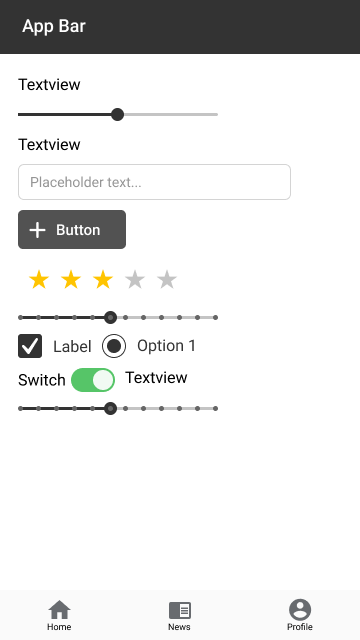buttonImage: (16, 208, 127, 250)
checkBox: (15, 332, 93, 361)
editText: (16, 162, 293, 202)
navigationButton: (1, 592, 359, 638)
radioButton: (99, 333, 201, 358)
ratingBar: (26, 269, 178, 292)
slider: (12, 308, 222, 325), (16, 400, 221, 417)
slider1: (14, 107, 220, 121)
switch: (16, 368, 115, 392)
textView: (16, 73, 82, 96), (123, 367, 189, 388), (18, 137, 83, 155)
toolbar: (1, 1, 359, 53)
